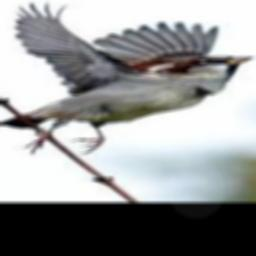Sparrow: (0, 2, 254, 153)
